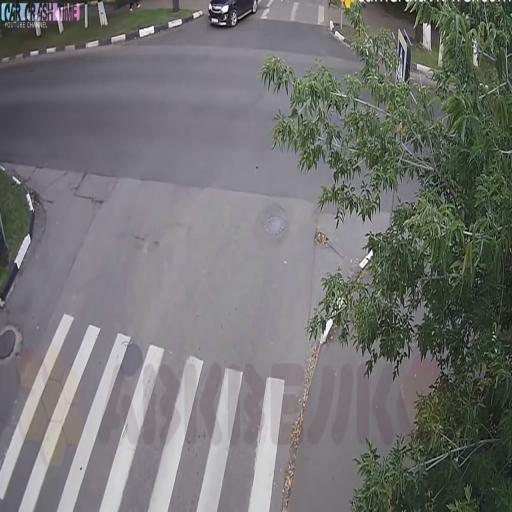小汽车: (207, 0, 260, 31)
